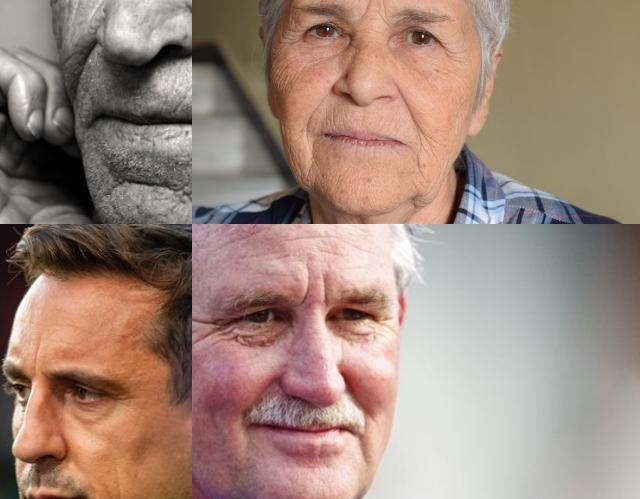chin: (116, 173, 190, 200)
crows_feet: (192, 312, 231, 345), (370, 310, 396, 332), (282, 22, 300, 46), (438, 40, 458, 60)
forehead: (289, 228, 331, 246), (229, 224, 268, 243)
frown_line: (298, 276, 316, 308), (27, 343, 41, 377), (320, 274, 332, 310), (378, 0, 392, 23), (356, 0, 371, 20)
gummy_smile: (73, 37, 99, 92), (398, 88, 422, 127), (306, 95, 324, 135)
masseter: (101, 481, 127, 499)
sad_smile: (306, 143, 322, 173), (410, 152, 428, 176)
smoker_lines: (323, 109, 341, 129)
